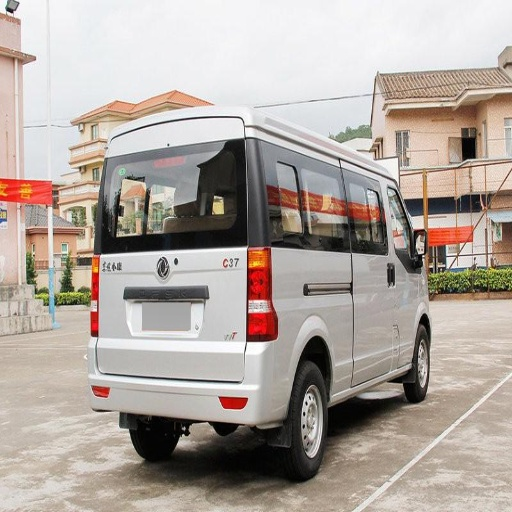back_bumper: (87, 339, 286, 423)
trunk: (91, 248, 426, 419)
